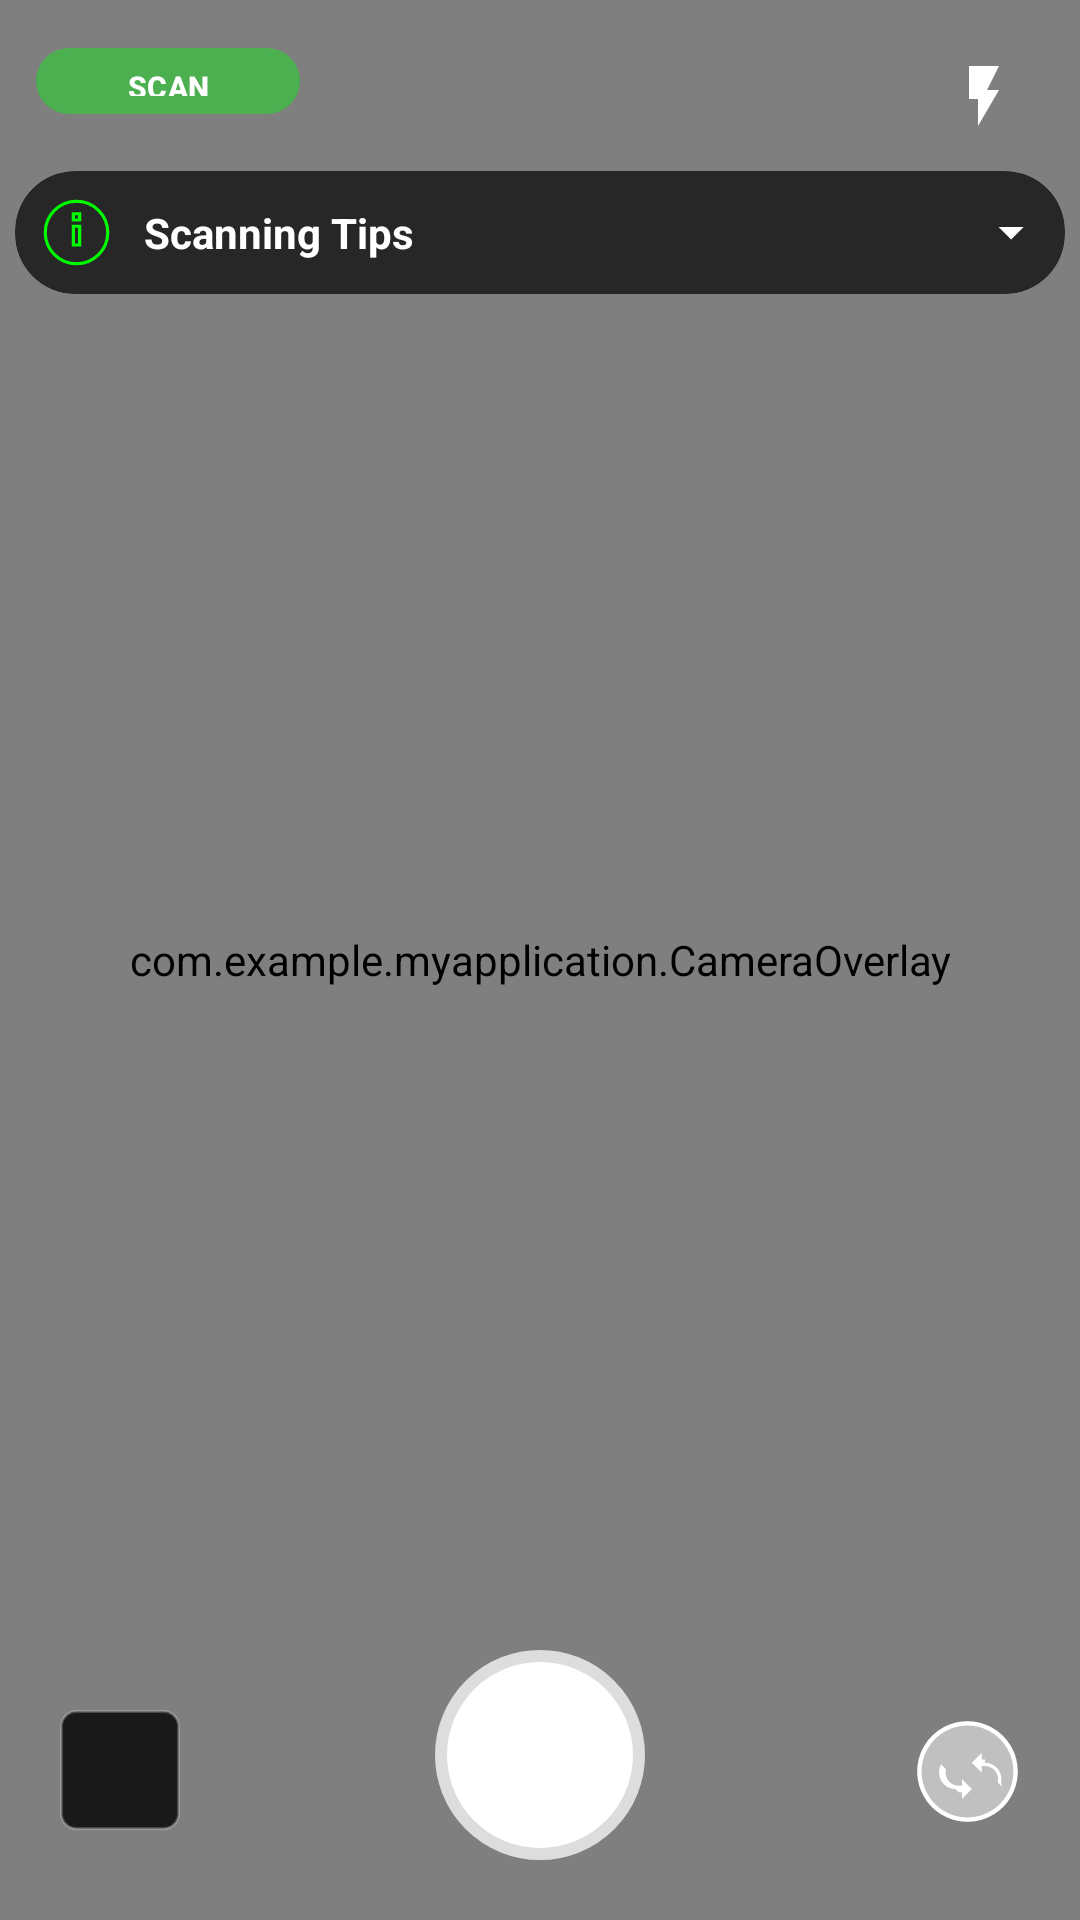

Screen size 1080w x 1920h. Icon name, then its box in pixels as (x1, y1, x2, y2):
arrow down: (999, 227, 1024, 240)
flash on: (969, 66, 999, 126)
Toggle Camera: (917, 1721, 1018, 1822)
